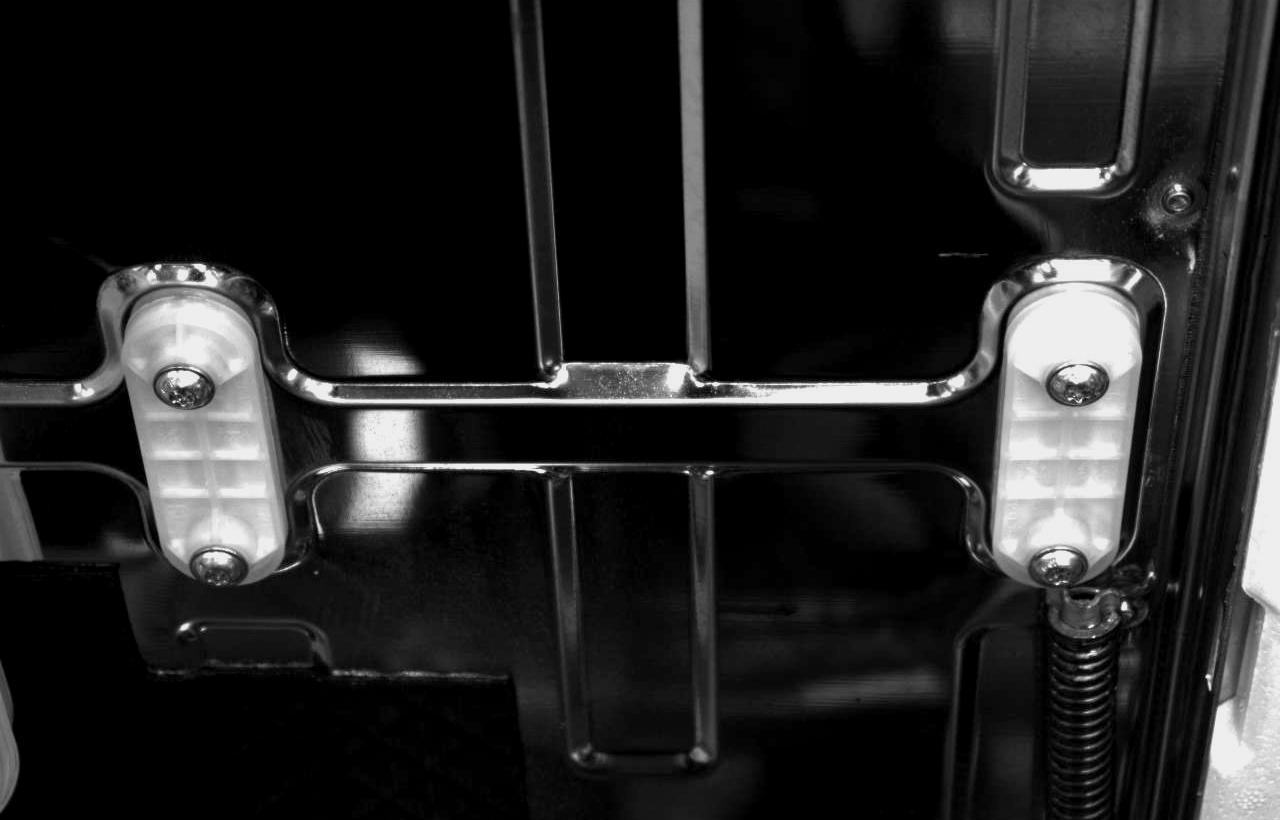vida-ok: (144, 357, 216, 424), (1044, 357, 1111, 424), (184, 535, 250, 594), (1023, 539, 1089, 598)
